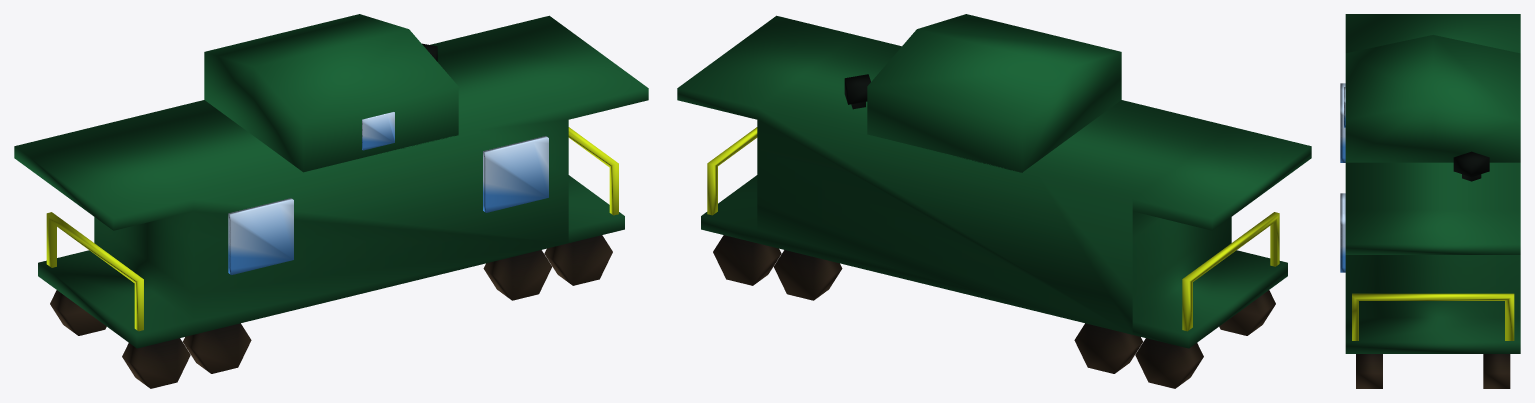
The model's file is BoxCar_Green.fbx.
3 renders of one model, left to right at view 1: azimuth 30°, elevation 25°; view 2: azimuth 150°, elevation 25°; view 3: azimuth 270°, elevation 25°, orthographic. The views are drawn at different scales.
Parts seen in each view (by area): view 1: Cylinder.001; view 2: Cylinder.001; view 3: Cylinder.001.
Boxes of the visible parts, x1,y1,x2,y2 form: Cylinder.001: (14, 14, 648, 388); Cylinder.001: (677, 14, 1311, 388); Cylinder.001: (1340, 14, 1520, 388).
Bounding box in the file's own units: 2004 × 909 × 662.
